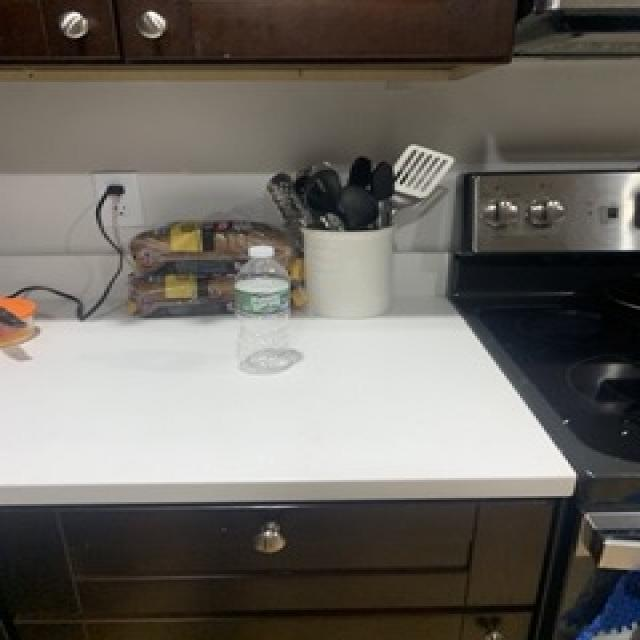water_bottle: (231, 246, 296, 376)
